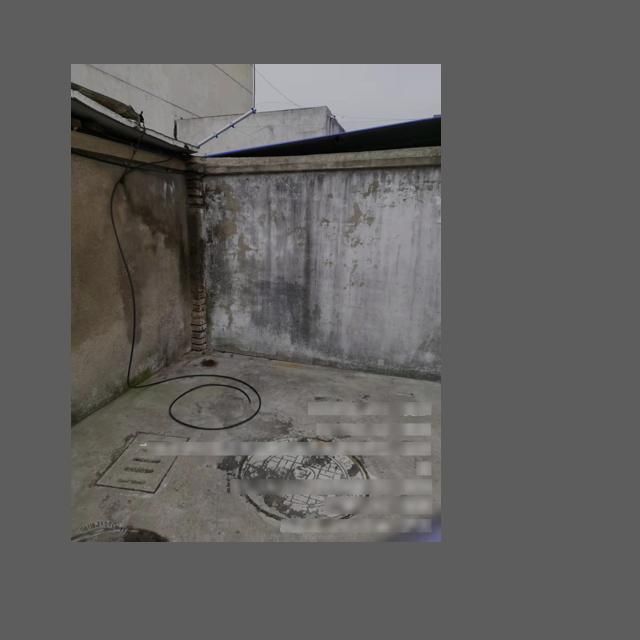good: (234, 436, 378, 528)
